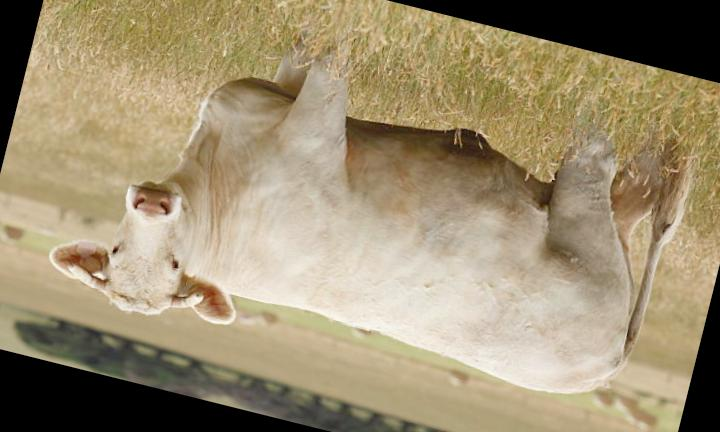Charolais: (50, 53, 689, 393)
